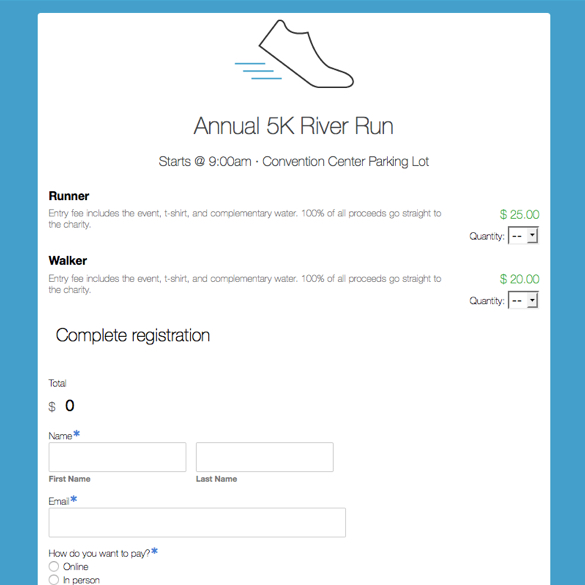radiobutton: (42, 542, 164, 585)
textbox: (193, 439, 343, 485)
